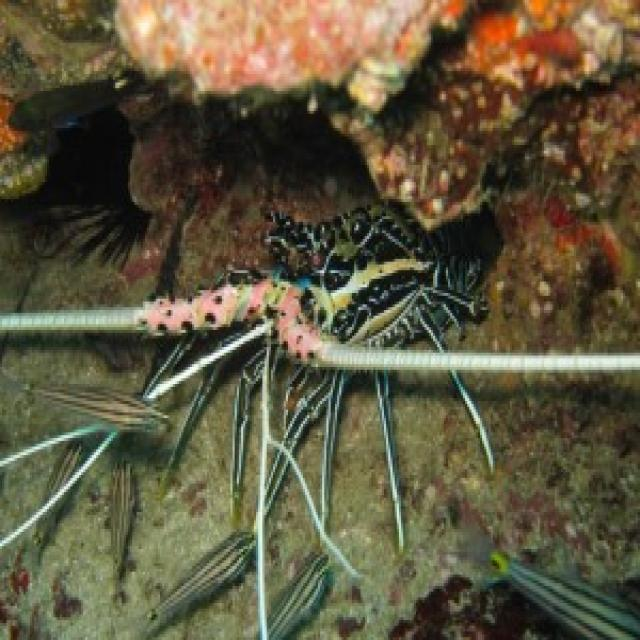lobsters: (63, 119, 597, 590)
